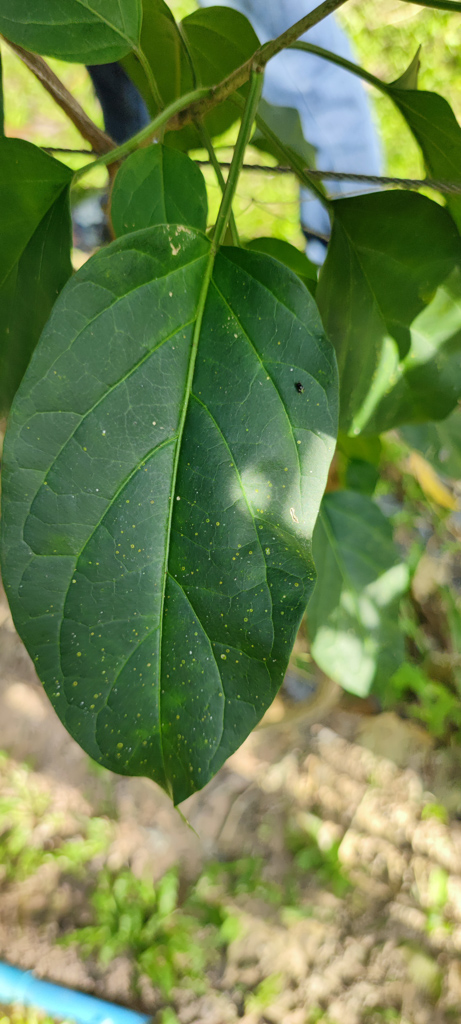frog-eye leafspot: (65, 477, 306, 791)
